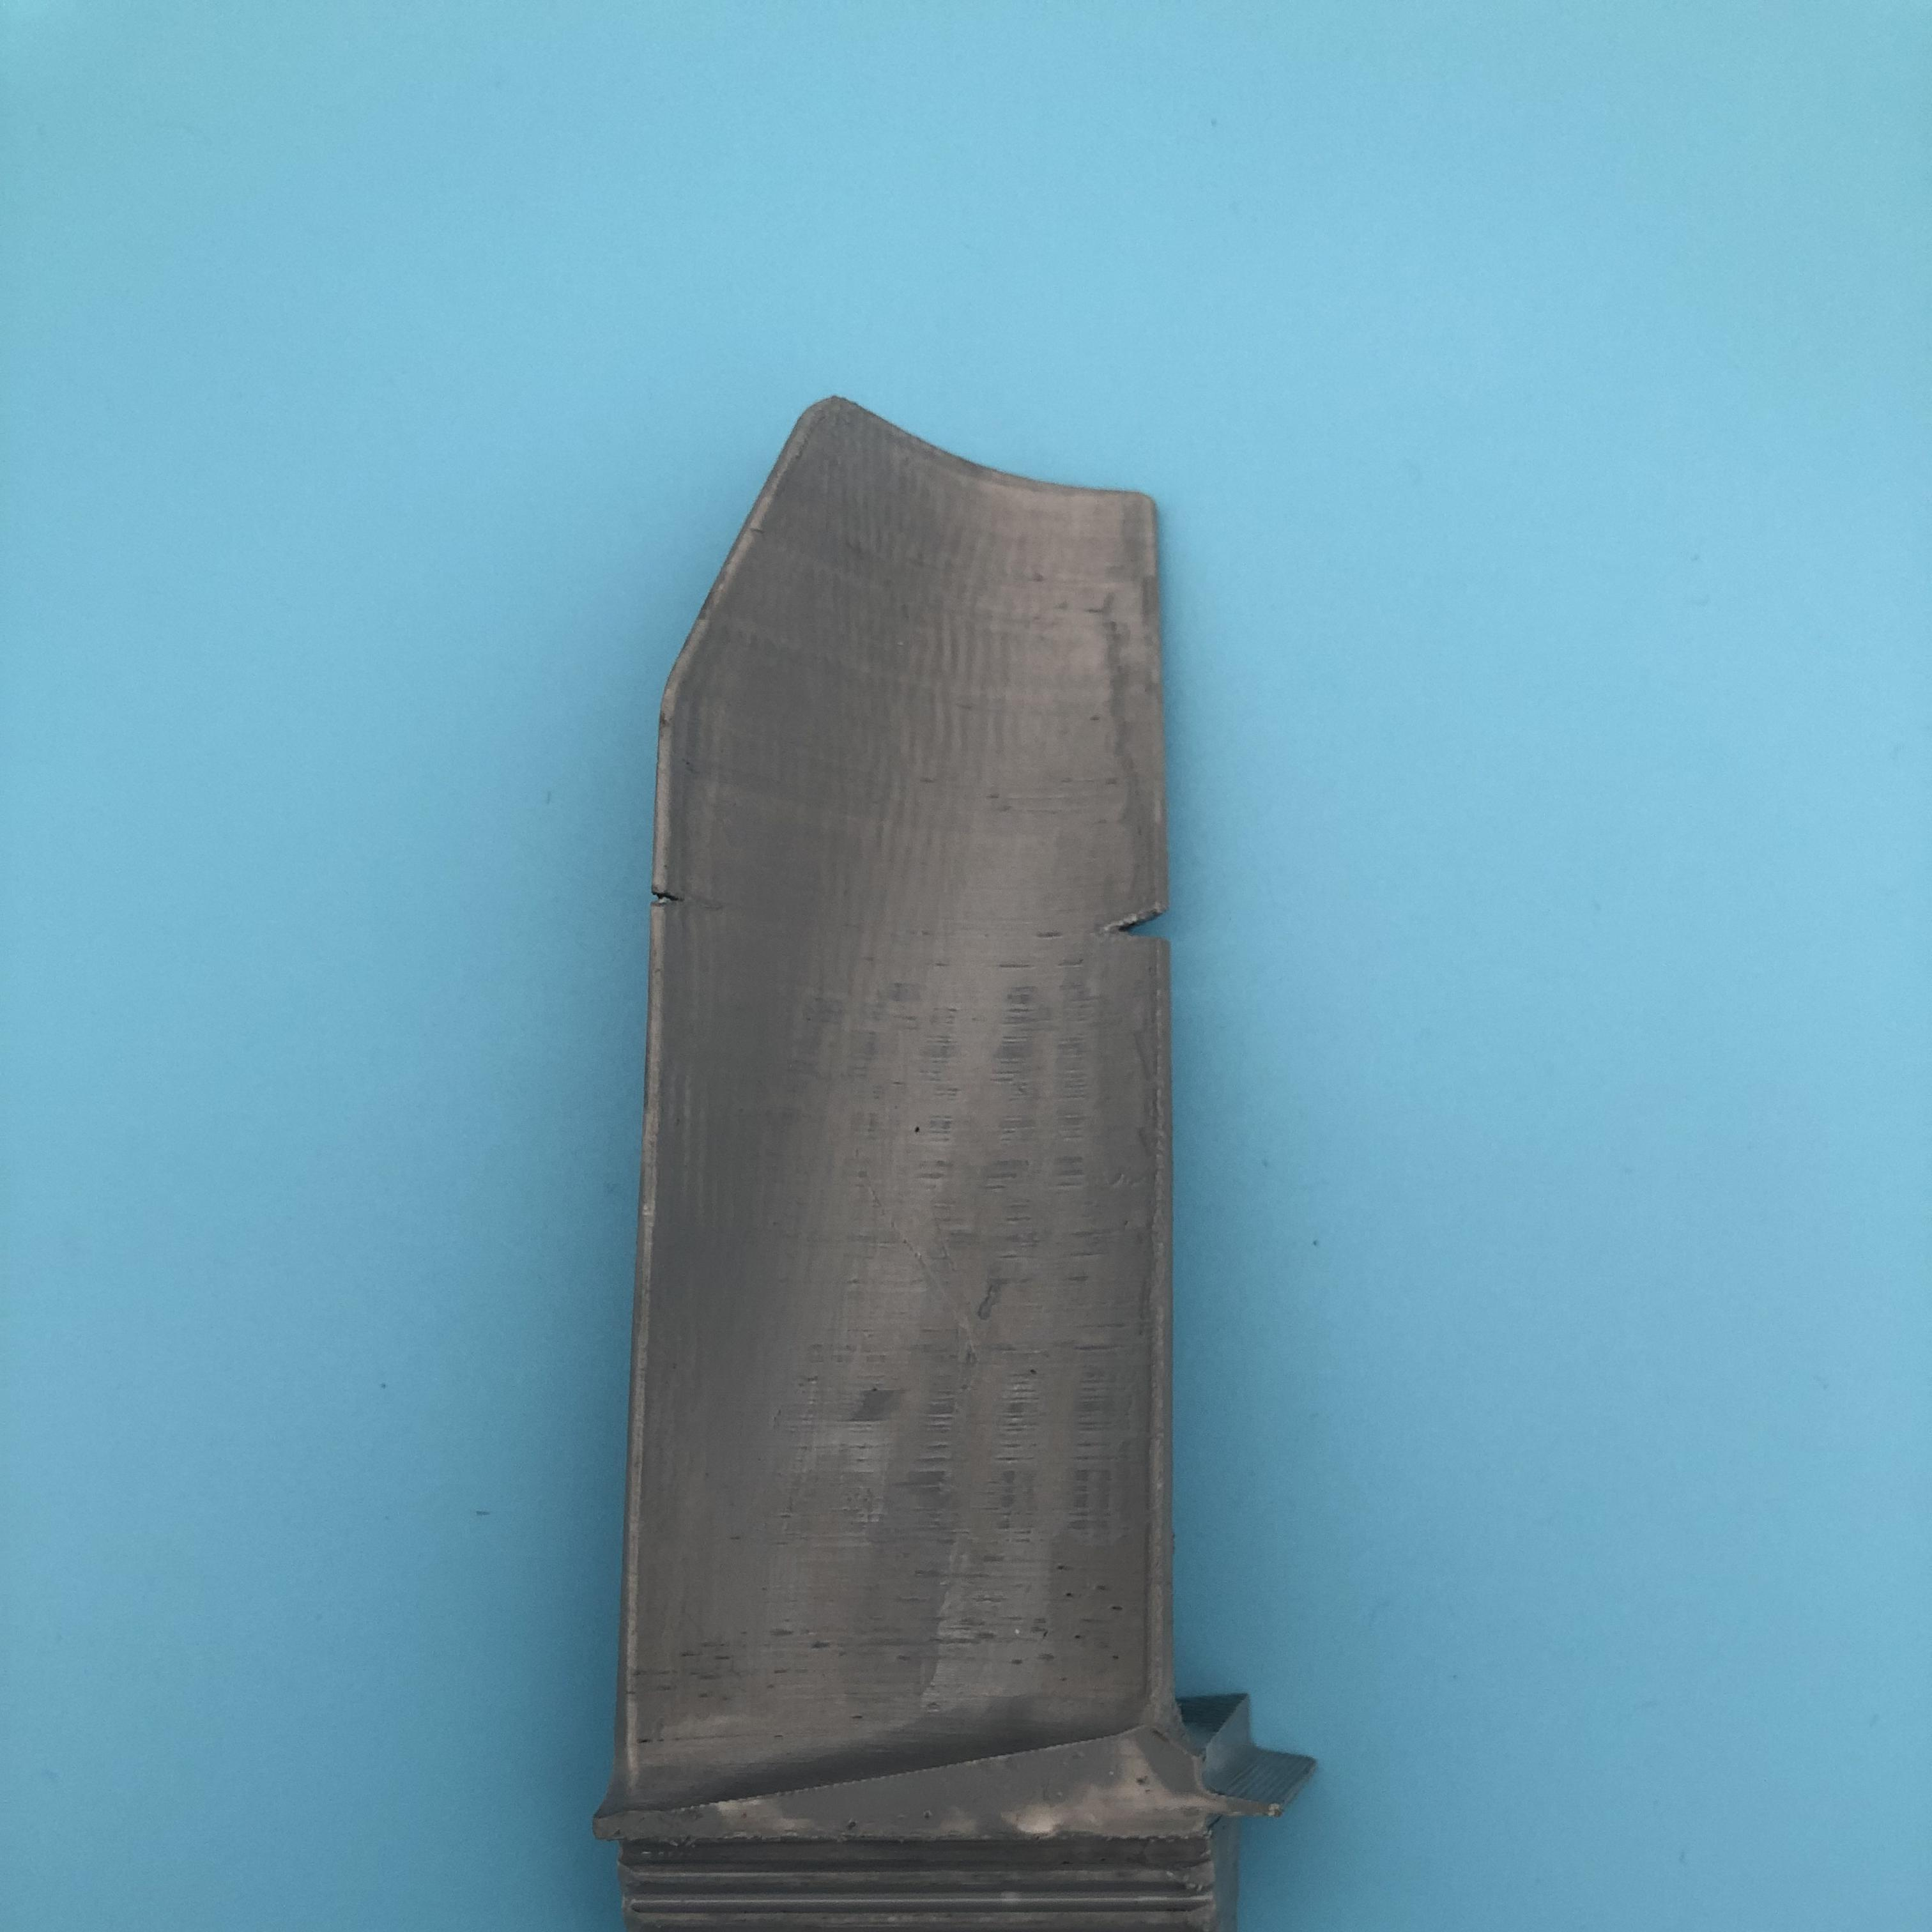groove: (1115, 892, 1171, 970), (651, 865, 692, 936)
